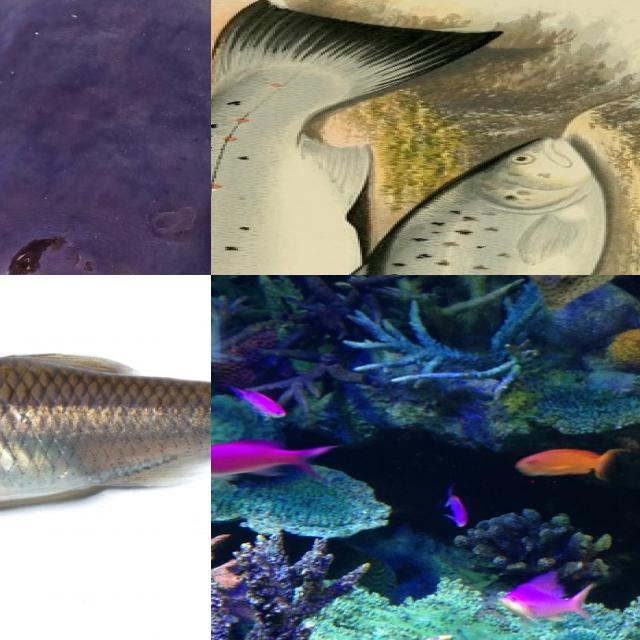fish: (0, 0, 211, 275), (288, 129, 623, 275), (0, 322, 211, 514)
